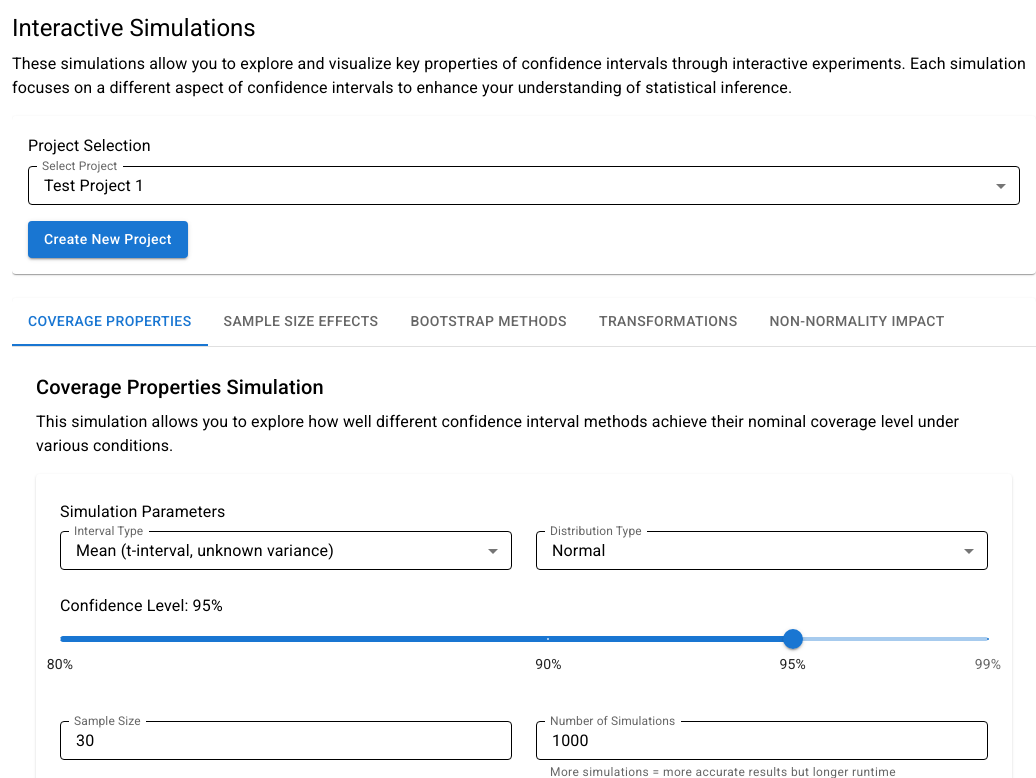
Test: InteractiveSimulations Component › handles errors when creating a project
Click the create project button
Click the button "Create New Project": {"x": 108, "y": 239} 28,221 -> 188,258
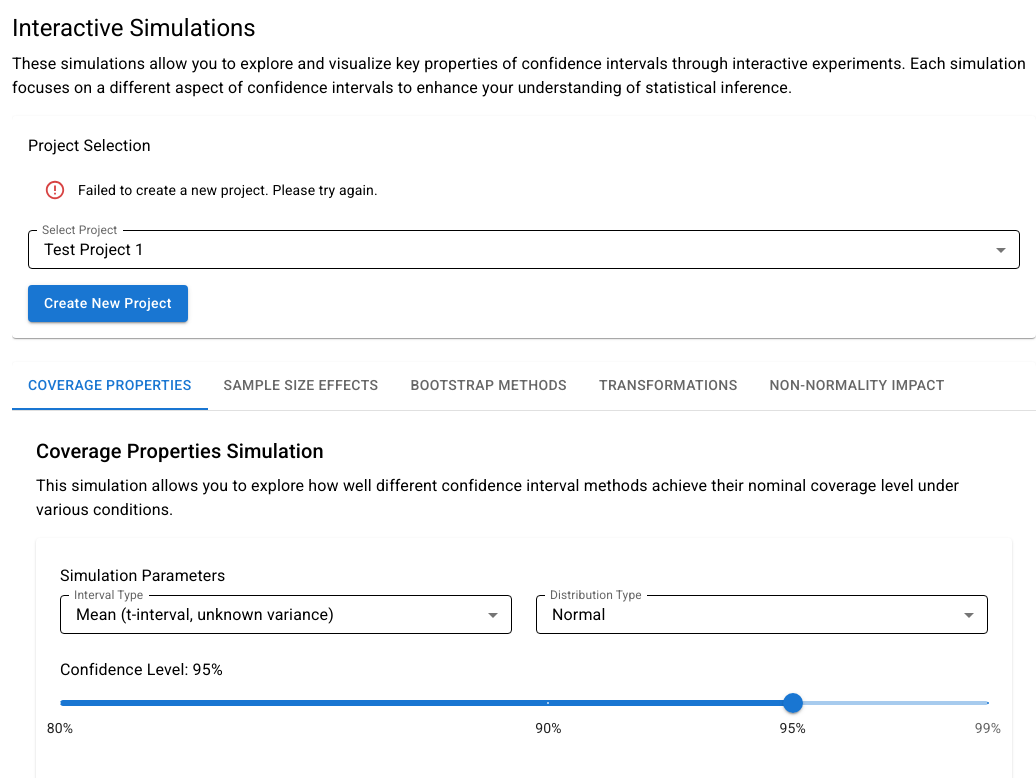
Now the text "Failed to create a new project. Please try again." is shown, box 78,182 -> 378,198
